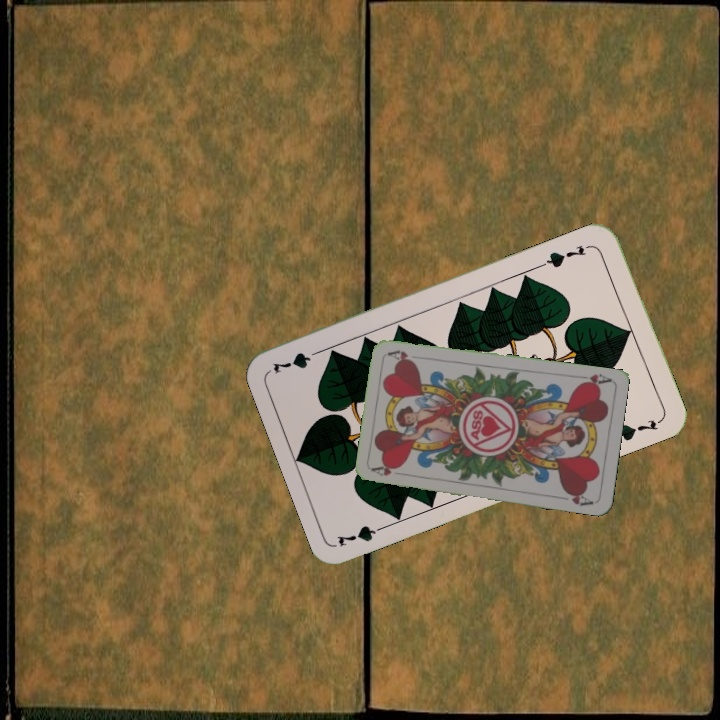G7: (539, 240, 596, 271), (333, 520, 392, 549)
HA: (572, 370, 613, 389), (369, 462, 410, 478)
